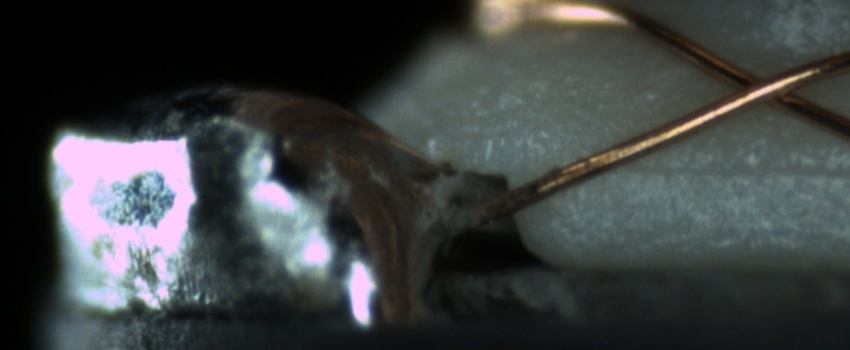CL: (698, 54, 824, 117)
DL: (612, 134, 844, 202)
